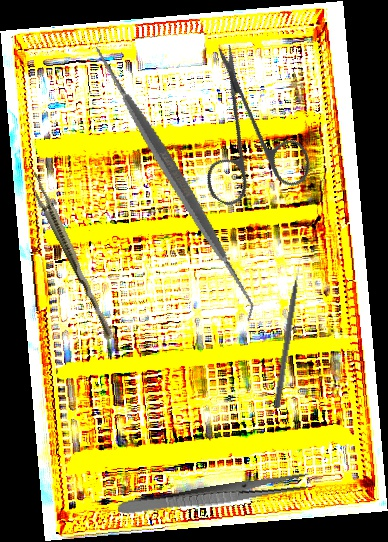Dressing Forceps: (116, 470, 312, 521)
Iris Scissors: (152, 41, 345, 233)
Pusher: (273, 259, 305, 409)
Spatula Surgical: (28, 34, 322, 323)
Tissue Forceps: (22, 170, 121, 342)
